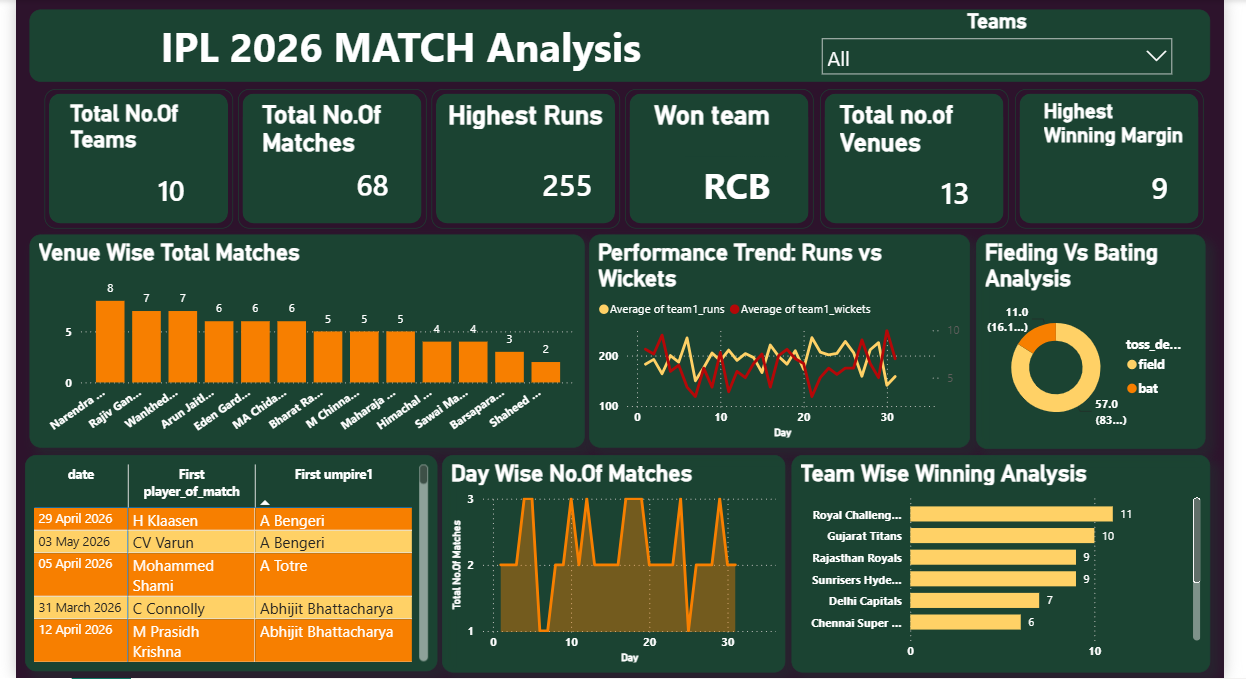

The page's visual inventory and layout, read from the dashboard file:
{"tool":"powerbi","page":{"name":"Page 1","canvas":[1280,720],"ordinal":0},"visuals":[{"type":"shape","box":[1060,95,200,147.9],"z":0},{"type":"shape","box":[235,95,200,147.9],"z":1000},{"type":"shape","box":[852.6,95,200,147.9],"z":2000},{"type":"shape","box":[645,95,200,147.9],"z":3000},{"type":"shape","box":[440,95,200,147.9],"z":4000},{"type":"shape","box":[30,95,200,147.9],"z":5000},{"type":"cardVisual","title":"Won team","fields":{"Data":["Min(ipl_matches_2026.Wins)"]},"box":[615,106.6,245,136.8],"z":6000},{"type":"cardVisual","title":"Highest Runs","fields":{"Data":["Max(ipl_matches_2026.Highest team Score)"]},"box":[453.3,106.6,186.1,146],"z":7000},{"type":"cardVisual","title":"Total no.of Venues","fields":{"Data":["Count(ipl_matches_2026.venue)"]},"box":[868.5,106.6,171.8,133],"z":8000},{"type":"cardVisual","title":"Total No.Of Teams","fields":{"Data":["Count(ipl_matches_2026.team1)"]},"box":[52.5,106.6,154.3,134],"z":9000},{"type":"cardVisual","title":"Total No.Of Matches","fields":{"Data":["CountNonNull(ipl_matches_2026.Total_matches)"]},"box":[256.1,106.6,167,118],"z":10000},{"type":"cardVisual","title":"Highest Winning Margin","fields":{"Data":["Max(ipl_matches_2026.win_by_wickets)"]},"box":[1084.8,106.6,165.4,135],"z":11000},{"type":"columnChart","title":"Venue Wise Total Matches","fields":{"Category":["ipl_matches_2026.venue"],"Y":["CountNonNull(ipl_matches_2026.Total_matches)"]},"box":[14.3,249,588.5,225.9],"z":12000},{"type":"areaChart","title":"Day Wise No.Of Matches","fields":{"Category":["ipl_matches_2026.date.Variation.Date Hierarchy.Day"],"Y":["CountNonNull(ipl_matches_2026.Total_matches)"]},"box":[452,484,364.2,230.6],"z":13000},{"type":"clusteredBarChart","title":"Team Wise Winning Analysis","fields":{"Category":["ipl_matches_2026.winner"],"Y":["CountNonNull(ipl_matches_2026.Total_matches)"]},"box":[822.3,483.5,443.8,230.6],"z":14000},{"type":"donutChart","title":"Fieding Vs Bating Analysis","fields":{"Category":["ipl_matches_2026.toss_decision"],"Y":["CountNonNull(ipl_matches_2026.Total_matches)"]},"box":[1018,249.7,243.4,227.5],"z":15000},{"type":"lineChart","title":"Performance Trend: Runs vs Wickets","fields":{"Category":["ipl_matches_2026.date.Variation.Date Hierarchy.Day"],"Y":["Avg(ipl_matches_2026.team1_runs)"],"Y2":["Avg(ipl_matches_2026.team1_wickets)"]},"box":[607.6,249.7,404,225.9],"z":16000},{"type":"pivotTable","fields":{"Values":["Min(ipl_matches_2026.player_of_match)","Min(ipl_matches_2026.umpire1)"],"Rows":["ipl_matches_2026.date"]},"box":[10,484,437.4,229],"z":17000},{"type":"textbox","box":[14.3,11.1,1251.8,76.3],"z":18000},{"type":"slicer","title":"Teams","fields":{"Values":["ipl_matches_2026.team1"]},"box":[844.6,11.1,391.3,76.3],"z":19000},{"type":"textbox","box":[709.4,167,109.8,60.4],"z":20000}]}

Visuals, with their boxes in screenshot pixels (x1, y1, x2, y2):
shape: bbox(1033, 111, 1219, 248)
shape: bbox(267, 111, 453, 248)
shape: bbox(841, 111, 1026, 248)
shape: bbox(648, 111, 834, 248)
shape: bbox(457, 111, 643, 248)
shape: bbox(77, 111, 262, 248)
"Won team" cardVisual: bbox(620, 122, 847, 249)
"Highest Runs" cardVisual: bbox(470, 122, 643, 257)
"Total no.of Venues" cardVisual: bbox(855, 122, 1015, 245)
"Total No.Of Teams" cardVisual: bbox(97, 122, 241, 246)
"Total No.Of Matches" cardVisual: bbox(287, 122, 442, 231)
"Highest Winning Margin" cardVisual: bbox(1056, 122, 1210, 247)
"Venue Wise Total Matches" columnChart: bbox(62, 254, 609, 464)
"Day Wise No.Of Matches" areaChart: bbox(469, 472, 807, 678)
"Team Wise Winning Analysis" clusteredBarChart: bbox(812, 472, 1225, 678)
"Fieding Vs Bating Analysis" donutChart: bbox(994, 255, 1220, 466)
"Performance Trend: Runs vs Wickets" lineChart: bbox(613, 255, 988, 464)
pivotTable - Min(ipl_matches_2026.player_of_match) x Min(ipl_matches_2026.umpire1): bbox(58, 472, 464, 678)
textbox: bbox(62, 33, 1225, 104)
"Teams" slicer: bbox(833, 33, 1197, 104)
textbox: bbox(708, 178, 810, 234)
